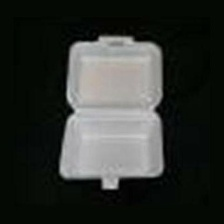foam_box: (52, 25, 177, 193)
